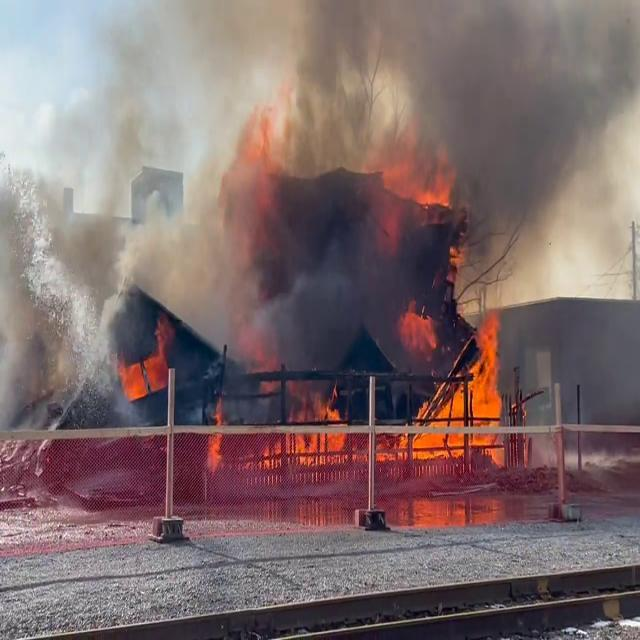Fire: (394, 304, 514, 459), (260, 393, 350, 468), (124, 336, 170, 396), (206, 398, 227, 479), (418, 175, 454, 212)
Smoke: (0, 0, 640, 366)
